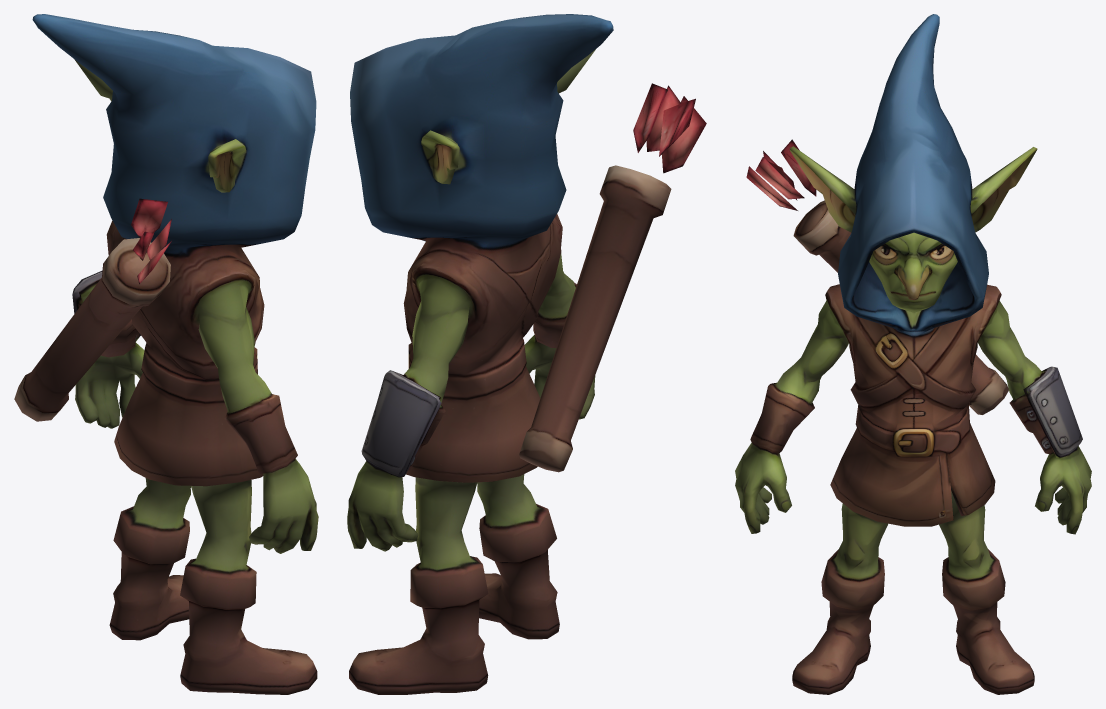
Rendered from ranged_tripo.glb.
3 views of the same model, side by side, from view 1: azimuth 30°, elevation 25°; view 2: azimuth 150°, elevation 25°; view 3: azimuth 270°, elevation 25° (orthographic). The views are drawn at different scales.
Parts seen in each view (by area): view 1: tripo_node_dc0083df-75e7-4844-aab0-d82a71f5f30b; view 2: tripo_node_dc0083df-75e7-4844-aab0-d82a71f5f30b; view 3: tripo_node_dc0083df-75e7-4844-aab0-d82a71f5f30b.
Part boxes in pixels (box(x1,y1,x2,y2)): tripo_node_dc0083df-75e7-4844-aab0-d82a71f5f30b: box(14, 14, 318, 694); tripo_node_dc0083df-75e7-4844-aab0-d82a71f5f30b: box(347, 14, 706, 694); tripo_node_dc0083df-75e7-4844-aab0-d82a71f5f30b: box(735, 14, 1091, 694).
Size of the model in its own units: 0.4199 by 0.998 by 0.5488.
1 material, 1 textured.
